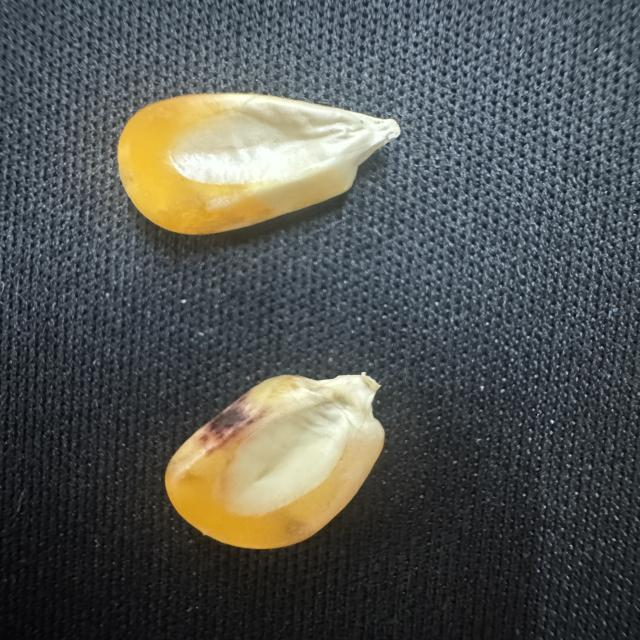Bad-Seed: (156, 370, 389, 554)
Good-Seed: (112, 88, 402, 240)
